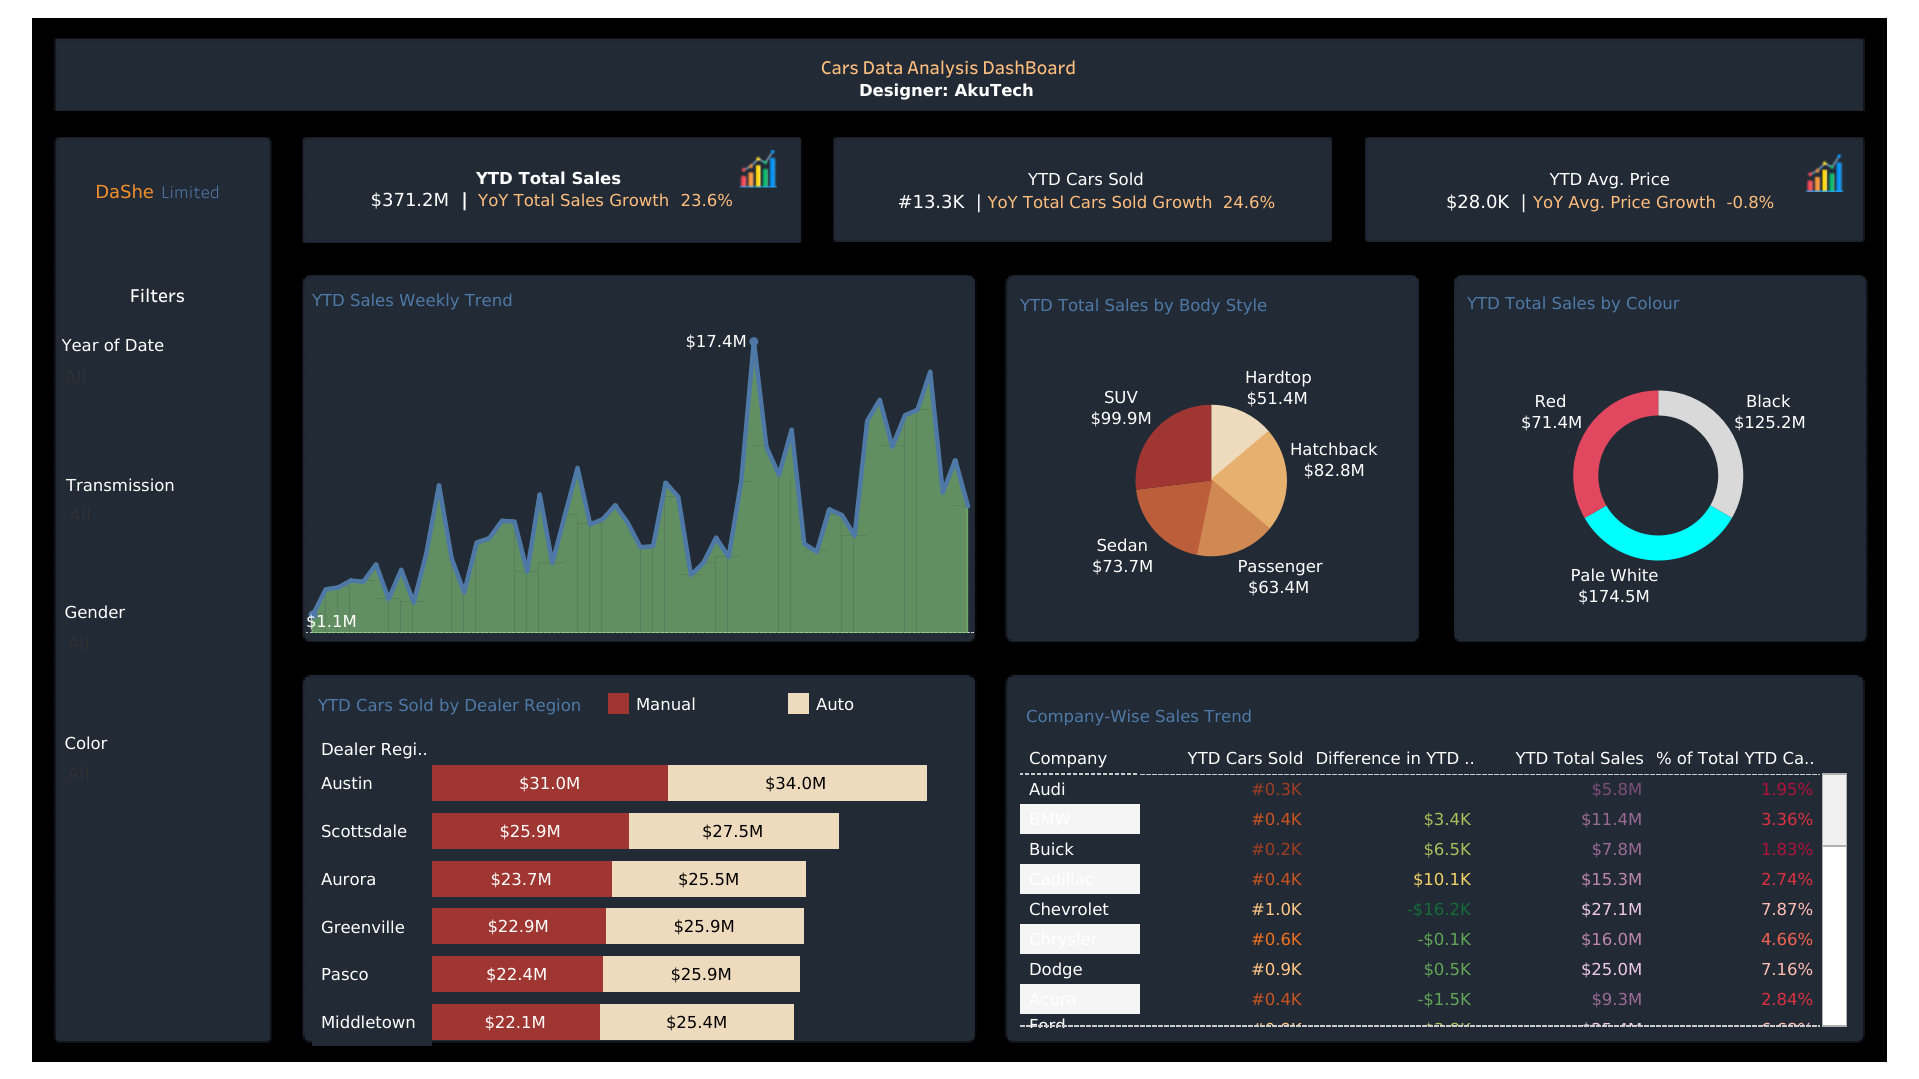

Layout of this report page (visuals, bound fields, positions):
{"tool":"tableau","page":{"name":"Dashboard_Analysis_Cars","canvas":[1280,720],"ordinal":0},"visuals":[{"type":"image","param":"Image/Slide1.PNG","box":[8,8,1264,704]},{"type":"text","box":[470,29,322,44]},{"type":"worksheet","title":"YTD Total Sales","mark":"Automatic","box":[205,93,322,66]},{"type":"worksheet","title":"YTD Cars Sold","mark":"Automatic","box":[563,97,323,59]},{"type":"worksheet","title":"YTD Avg. Price","mark":"Automatic","box":[916,97,316,59]},{"type":"image","param":"Image/analysis.png","box":[484,100,44,25]},{"type":"image","param":"Image/analysis.png","box":[1202,103,30,25]},{"type":"text","box":[51,112,108,30]},{"type":"text","box":[55,181,100,30]},{"type":"worksheet","title":"YTD Sales Weekly Trend","mark":"Automatic","rows":["Calculation_609393367023677440","Calculation_609393367023677440"],"cols":["Date"],"box":[204,187,445,235]},{"type":"worksheet","title":"YTD Total Sales by Colour","mark":"Pie","rows":["Calculation_609393367043780618","Calculation_609393367043780618"],"box":[974,189,263,227]},{"type":"worksheet","title":"YTD Total Sales by Body Style","mark":"Pie","box":[676,190,263,231]},{"type":"filter","title":"YTD Sales Weekly Trend","param":"[federated.1wbx5nx0xv7wl215w63q61jz9pqo].[yr:Date:ok]","box":[41,222,134,63]},{"type":"filter","title":"YTD Sales Weekly Trend","param":"[federated.1wbx5nx0xv7wl215w63q61jz9pqo].[none:Transmission:nk]","box":[44,315,131,57]},{"type":"filter","title":"YTD Sales Weekly Trend","param":"[federated.1wbx5nx0xv7wl215w63q61jz9pqo].[none:Gender:nk]","box":[43,400,132,59]},{"type":"worksheet","title":"YTD Cars Sold by Dealer Region","mark":"Automatic","rows":["Dealer_Region"],"cols":["Calculation_609393367023677440"],"box":[208,457,426,240]},{"type":"legend","title":"YTD Cars Sold by Dealer Region","param":"[federated.1wbx5nx0xv7wl215w63q61jz9pqo].[none:Transmission:nk]","box":[402,459,243,34]},{"type":"worksheet","title":"Company-Wise Sales Trend ","mark":"Automatic","rows":["Company"],"box":[680,464,552,221]},{"type":"filter","title":"YTD Sales Weekly Trend","param":"[federated.1wbx5nx0xv7wl215w63q61jz9pqo].[none:Color:nk]","box":[43,487,127,64]}]}

Visuals, with their boxes in screenshot pixels (x1, y1, x2, y2), scaled from the page's 1280x720 canvas onto the 1919x1079 screenshot:
image: (12, 12, 1907, 1067)
text: (705, 43, 1187, 109)
"YTD Total Sales" worksheet: (307, 139, 790, 238)
"YTD Cars Sold" worksheet: (844, 145, 1328, 234)
"YTD Avg. Price" worksheet: (1373, 145, 1847, 234)
image: (726, 150, 792, 187)
image: (1802, 154, 1847, 192)
text: (76, 168, 238, 213)
text: (82, 271, 232, 316)
"YTD Sales Weekly Trend" worksheet: (306, 280, 973, 632)
"YTD Total Sales by Colour" worksheet (Pie marks): (1460, 283, 1855, 623)
"YTD Total Sales by Body Style" worksheet (Pie marks): (1013, 285, 1408, 631)
"YTD Sales Weekly Trend" filter: (61, 333, 262, 427)
"YTD Sales Weekly Trend" filter: (66, 472, 262, 557)
"YTD Sales Weekly Trend" filter: (64, 599, 262, 688)
"YTD Cars Sold by Dealer Region" worksheet: (312, 685, 951, 1045)
"YTD Cars Sold by Dealer Region" legend: (603, 688, 967, 739)
"Company-Wise Sales Trend " worksheet: (1019, 695, 1847, 1027)
"YTD Sales Weekly Trend" filter: (64, 730, 255, 826)
